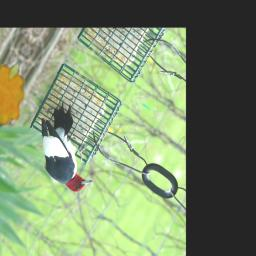Woodpecker: (21, 94, 118, 200)
